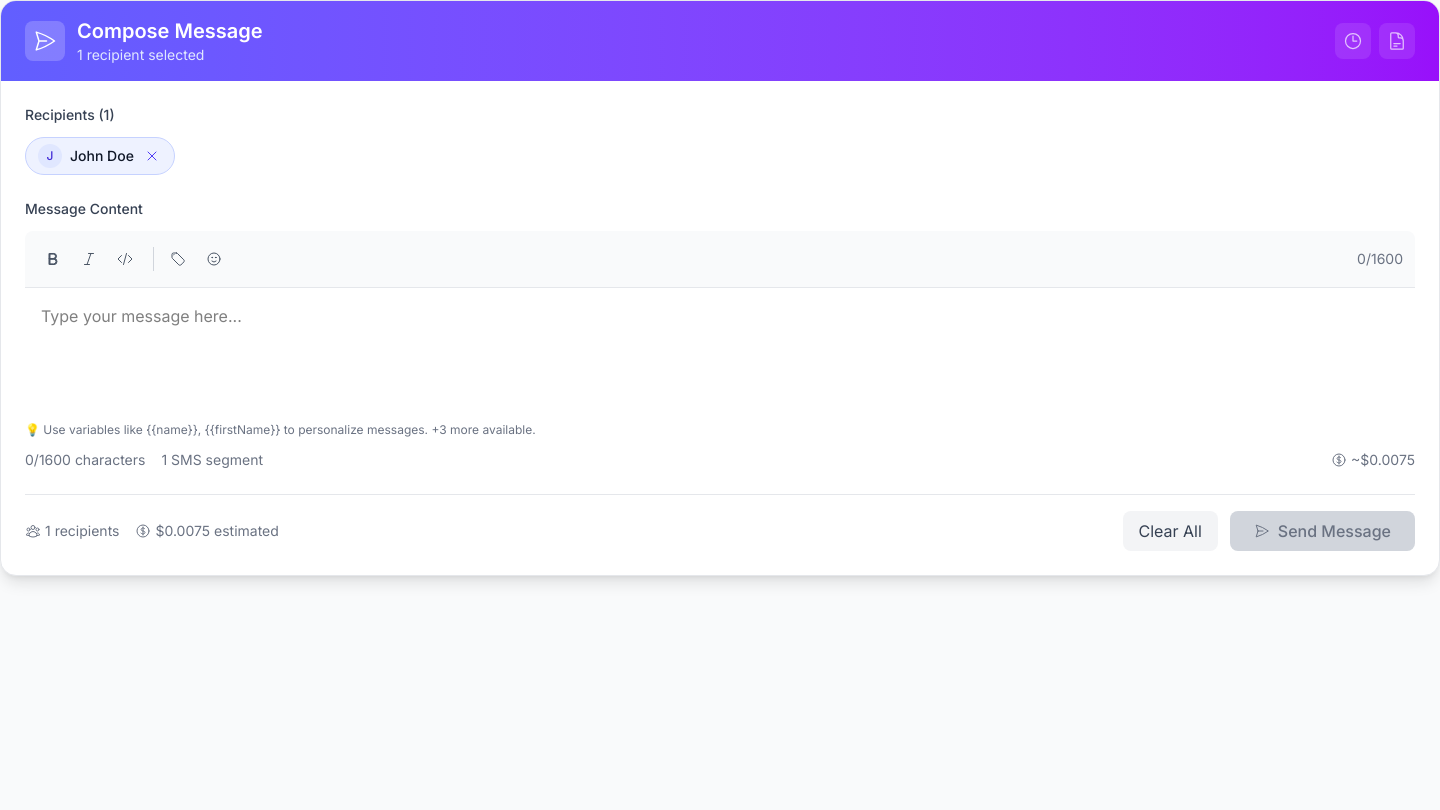
Test: MessageComposer Component › shows character count
Type "Hello world" into the text box. click: (720, 348)
box: [25, 288, 1415, 408]
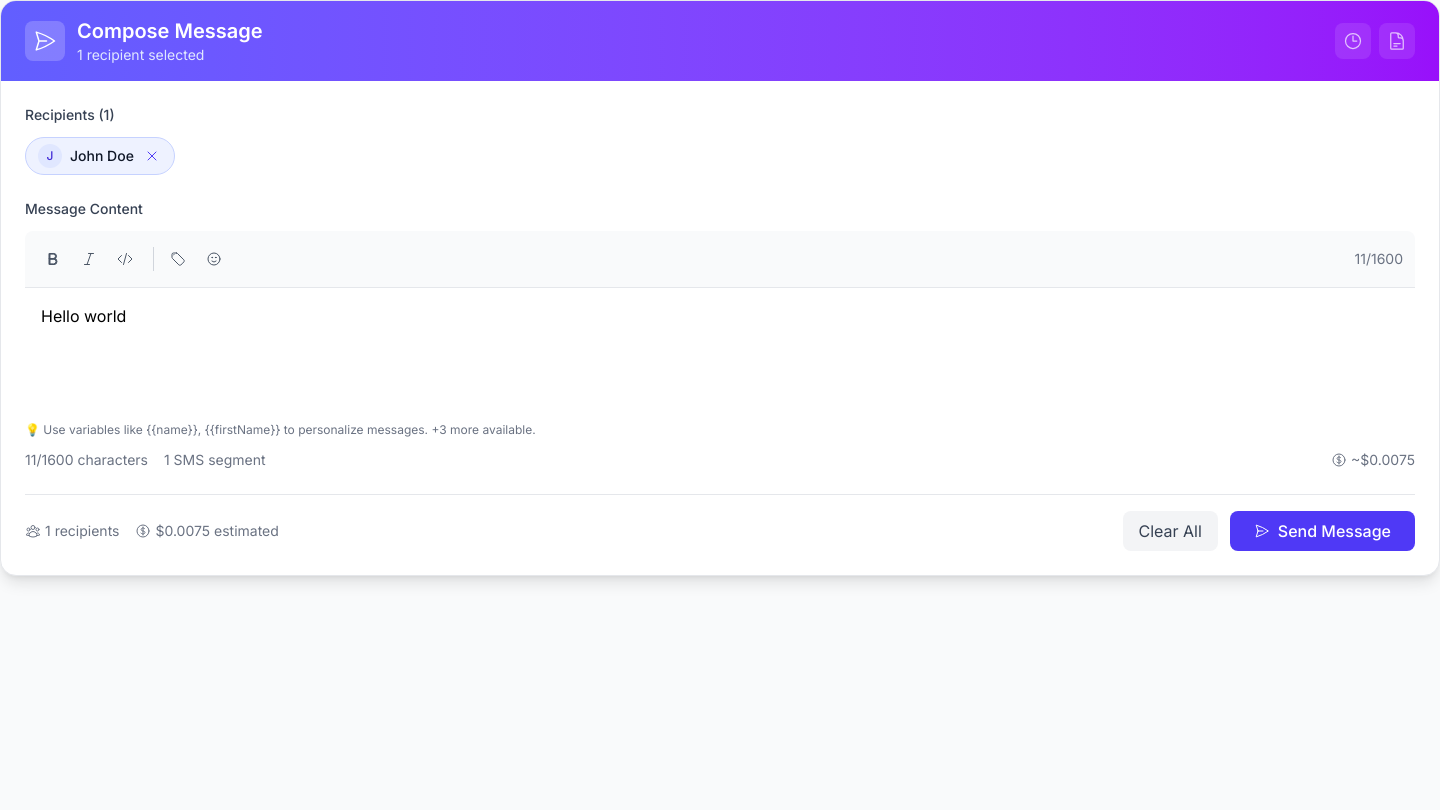
Result: the text "11/1600 characters" is shown at [25, 450, 148, 470]
